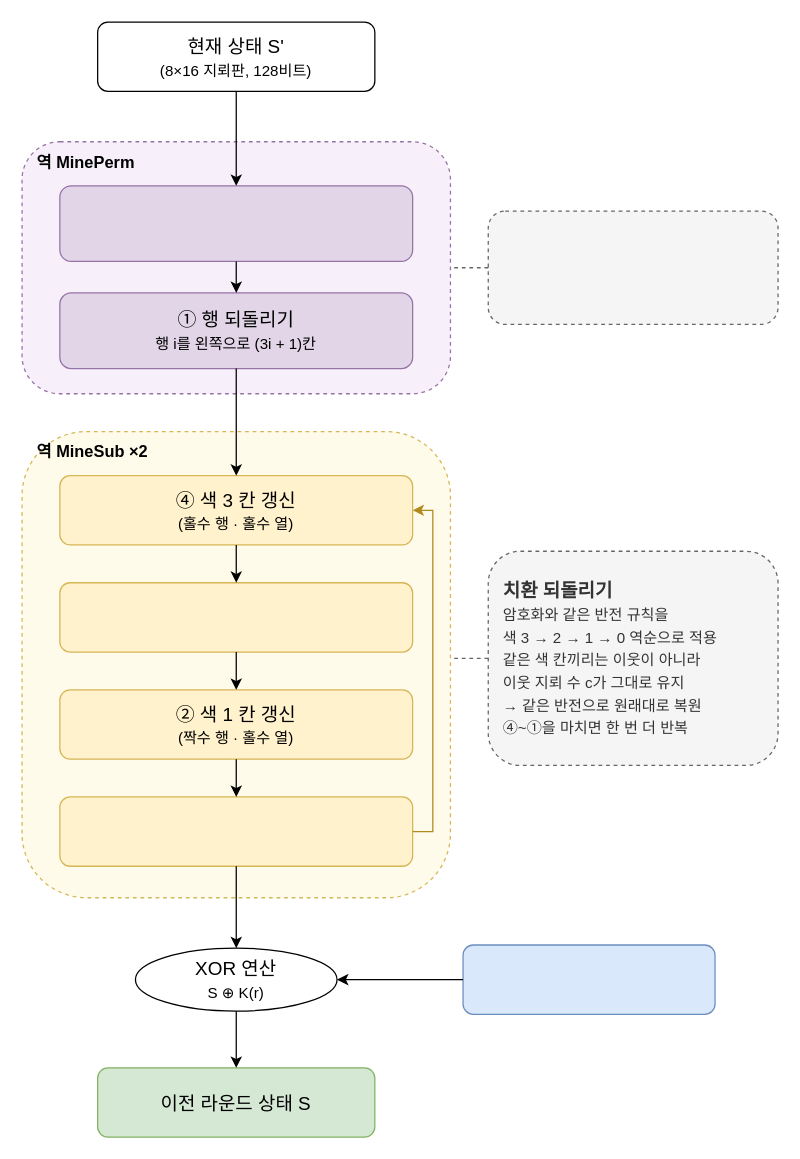
The diagram is 800 pixels wide and 1159 high, and some of its shapes have lost their labels. The shapes that lost their labels are listed below. From the top down, each one's box as (x1, y1, x2, y2) in pixels, then its label:
(59, 185, 413, 261): ② 열 되돌리기 열 j를 위로 j칸
(487, 210, 778, 324): 전치 되돌리기 암호화의 ①→② 순서를 거꾸로, 이동 방향도 반대로
(59, 581, 413, 652): ③ 색 2 칸 갱신 (홀수 행 · 짝수 열)
(59, 796, 413, 866): ① 색 0 칸 갱신 (짝수 행 · 짝수 열)
(462, 944, 715, 1014): 라운드 키 K(r) (128비트)
